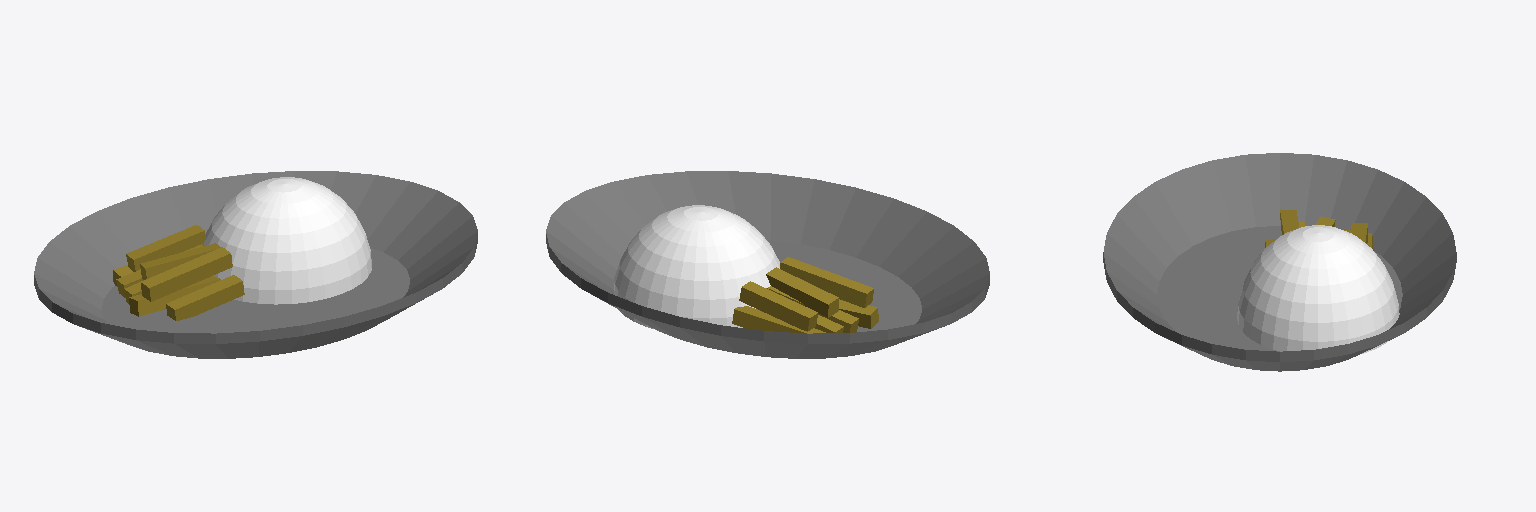
File: rice3_meat3_veg0.obj
The picture shows the model from 3 angles: view 1: azimuth 30°, elevation 25°; view 2: azimuth 150°, elevation 25°; view 3: azimuth 270°, elevation 25°; orthographic projection.
Visible parts, largest first — view 1: Cylinder, Sphere, Cube.007, Cube.004_Cube.005, Cube.005_Cube.000, Cube.002_Cube.003, Cube.006; view 2: Cylinder, Sphere, Cube.007, Cube.005_Cube.000, Cube.006, Cube.003_Cube.004, Cube.002_Cube.003, Cube.001_Cube.002; view 3: Cylinder, Sphere.
Boxes of the visible parts, box(x1,y1,x2,y2) form: Cylinder: box(34, 171, 477, 358); Sphere: box(203, 177, 371, 304); Cube.007: box(141, 247, 232, 301); Cube.004_Cube.005: box(166, 275, 244, 320); Cube.005_Cube.000: box(126, 225, 205, 271); Cube.002_Cube.003: box(129, 276, 220, 316); Cube.006: box(140, 243, 220, 279); Cylinder: box(546, 171, 989, 358); Sphere: box(614, 205, 779, 330); Cube.007: box(780, 257, 873, 307); Cube.005_Cube.000: box(739, 281, 817, 331); Cube.006: box(766, 267, 838, 317); Cube.003_Cube.004: box(732, 306, 825, 333); Cube.002_Cube.003: box(839, 299, 878, 328); Cube.001_Cube.002: box(767, 286, 858, 332); Cylinder: box(1103, 153, 1456, 371); Sphere: box(1237, 225, 1399, 353).
Bounding box in the file's own units: 5.75 × 1.25 × 4.31.